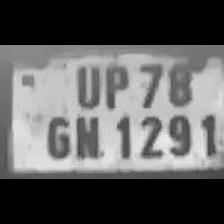1: (107, 108, 135, 162), (195, 109, 221, 159)
2: (134, 112, 162, 160)
7: (132, 59, 164, 109)
8: (163, 57, 195, 105)
9: (163, 110, 192, 158)
G: (41, 112, 72, 160)
N: (72, 110, 104, 160)
P: (98, 60, 132, 110)
U: (70, 60, 102, 108)
